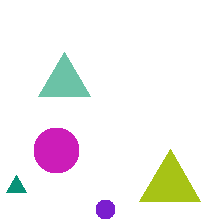circle: (34, 128, 78, 172), (96, 200, 114, 218)
triangle: (139, 149, 200, 201), (38, 52, 90, 96), (6, 175, 26, 192)
